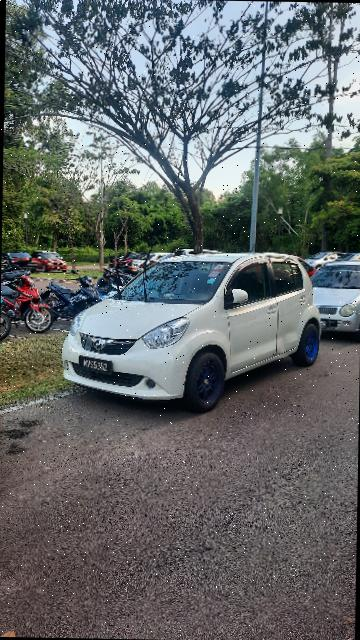License_Plate: (80, 356, 118, 380)
car: (56, 248, 329, 413)
